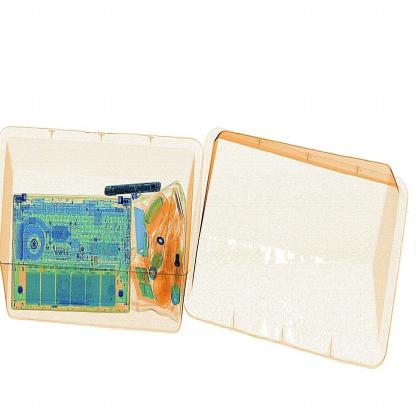pliers: (128, 201, 158, 279)
